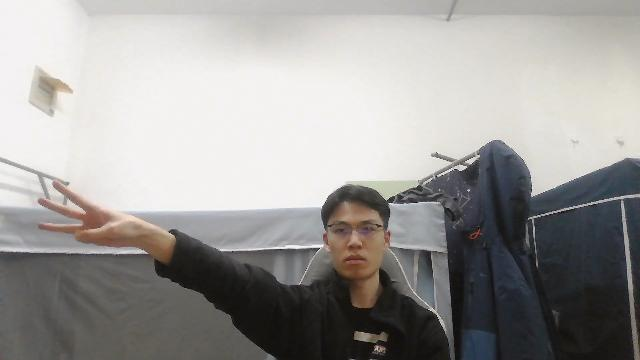three: (33, 177, 167, 250)
